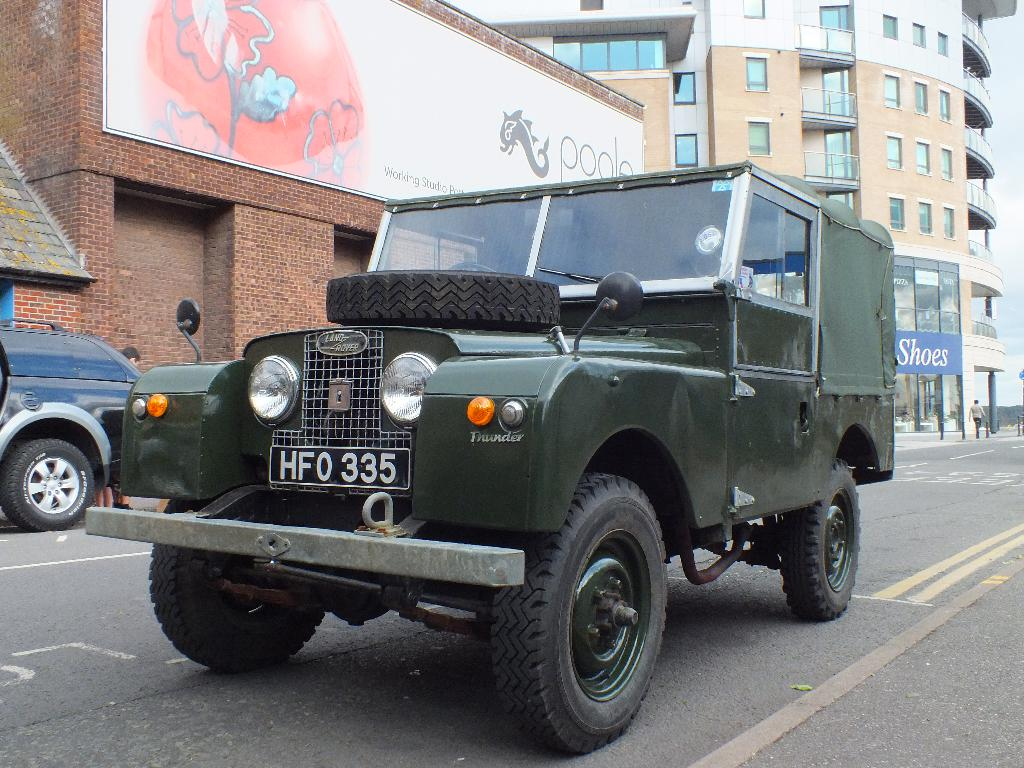car: (82, 149, 918, 757), (1, 318, 168, 536)
